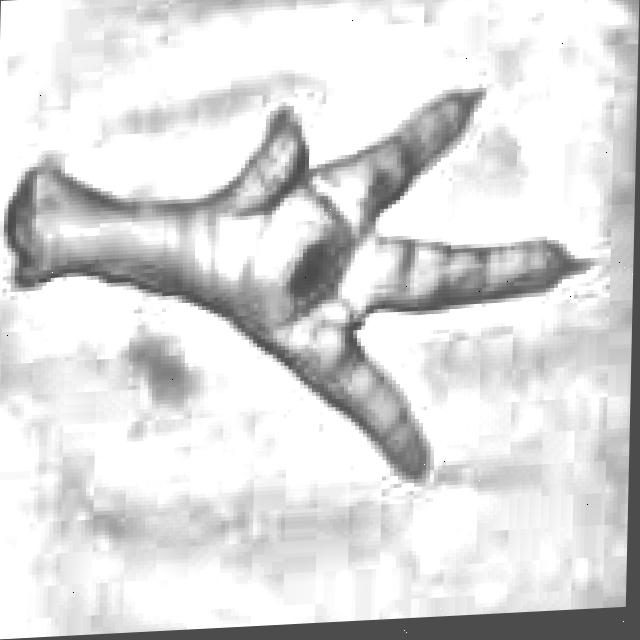Bumble foot: (0, 84, 598, 512)
